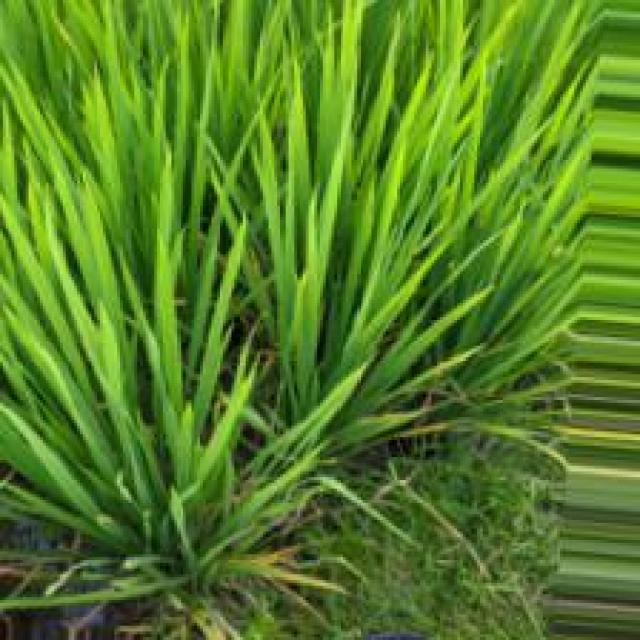HealthyLeaf: (7, 22, 169, 346), (303, 67, 490, 336)
